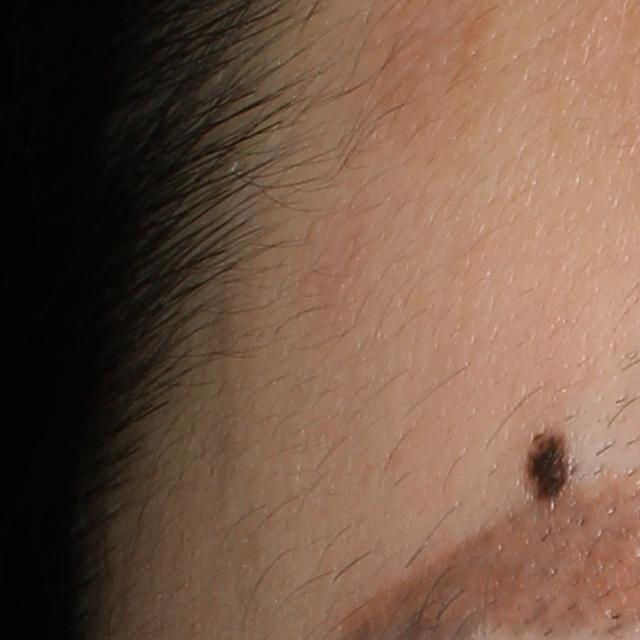nevus: (513, 429, 575, 503)
